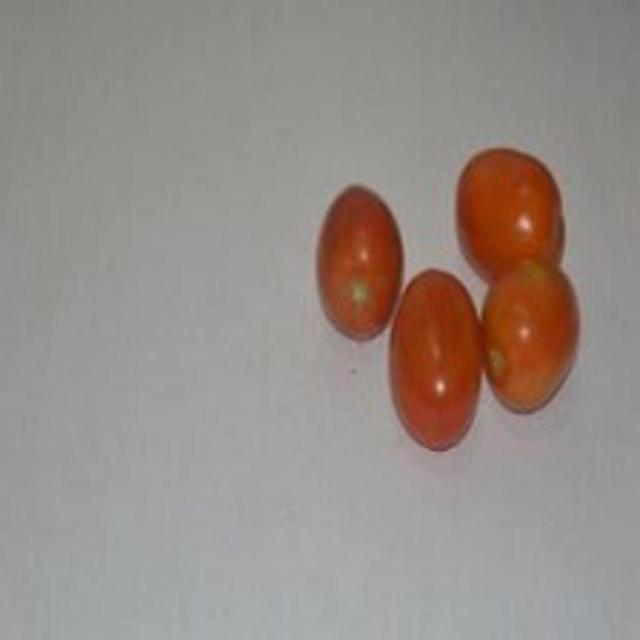tomato: (476, 248, 579, 424), (392, 264, 488, 452), (309, 181, 400, 344)
